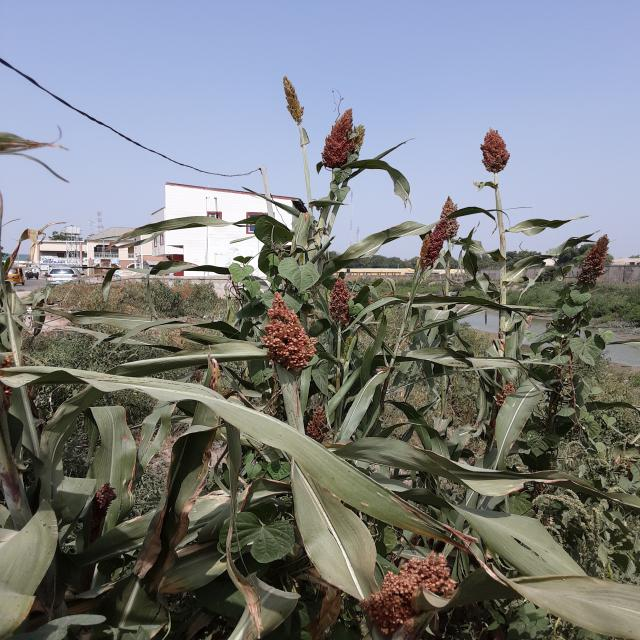RipeSorghum: (349, 546, 472, 627), (257, 287, 316, 374), (412, 212, 453, 277), (321, 105, 360, 169), (318, 280, 364, 320), (477, 126, 510, 173)
